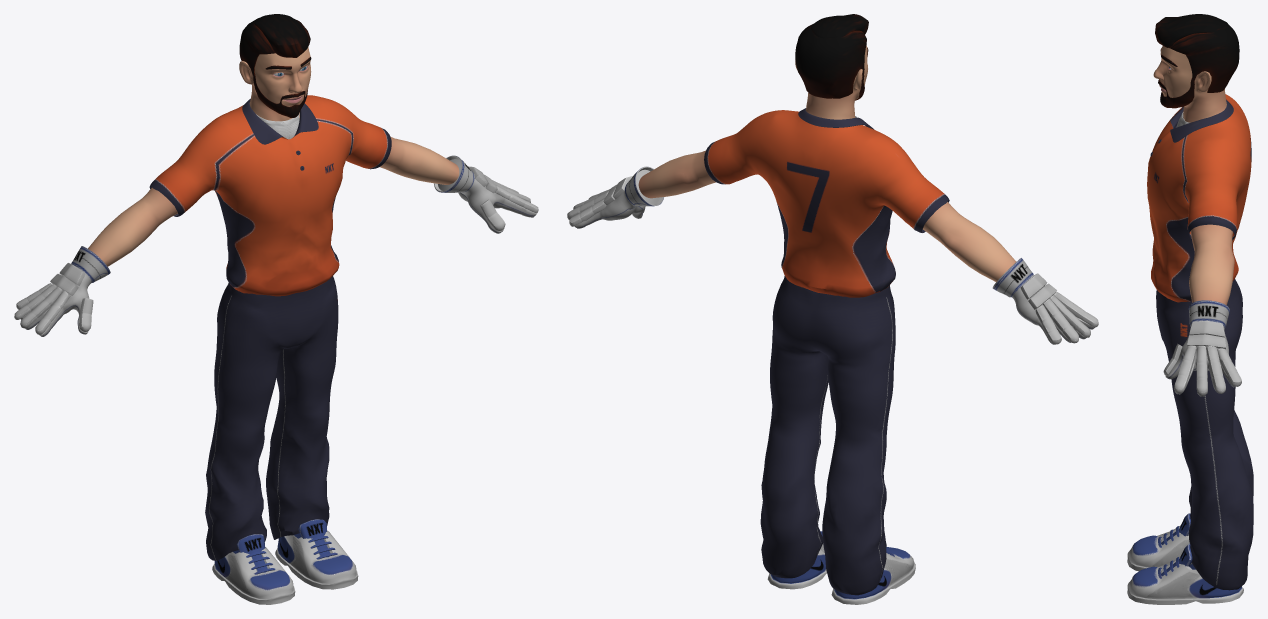
File: batsman.glb
The picture shows the model from 3 angles, left to right: view 1: azimuth 30°, elevation 25°; view 2: azimuth 150°, elevation 25°; view 3: azimuth 270°, elevation 25°; orthographic projection.
Visible parts, largest first — view 1: FINAL_ASSET; view 2: FINAL_ASSET; view 3: FINAL_ASSET.
Part boxes in pixels (x1,y1,x2,y2): FINAL_ASSET: [14, 14, 538, 604]; FINAL_ASSET: [567, 14, 1098, 604]; FINAL_ASSET: [1127, 14, 1253, 604].
Bounding box in the file's own units: 0.6095 × 0.6316 × 0.1291.
Materials: 1 (1 with a texture image).
